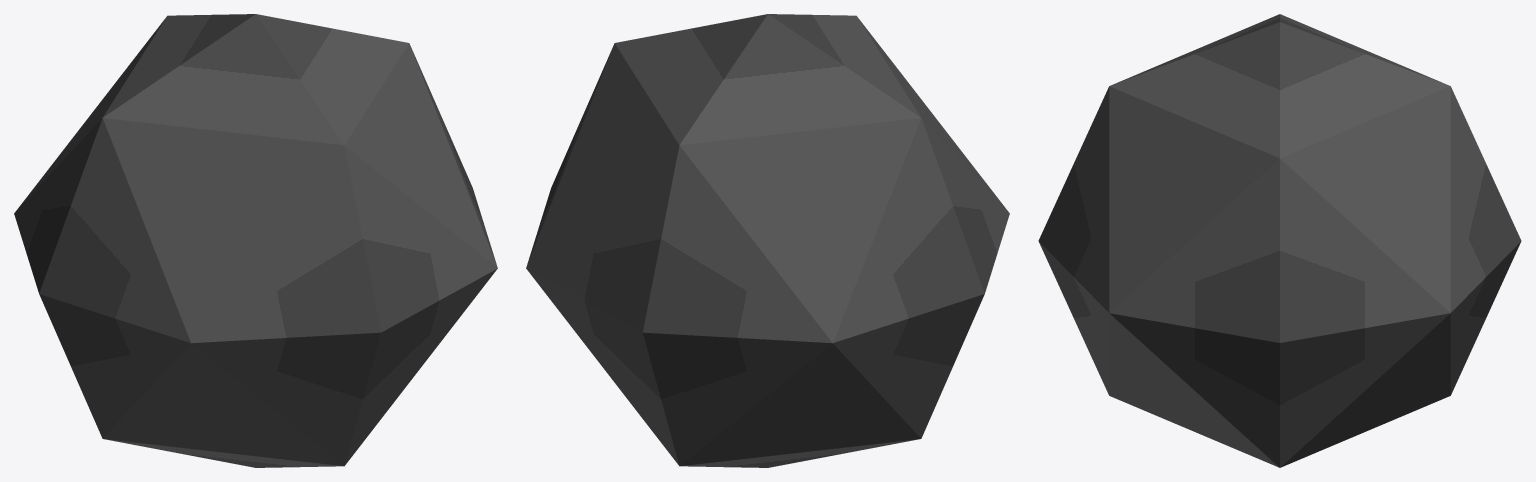
The model's file is steel_pipe_core.obj.
3 renders of one model, left to right at view 1: azimuth 30°, elevation 25°; view 2: azimuth 150°, elevation 25°; view 3: azimuth 270°, elevation 25°, orthographic. The views are drawn at different scales.
Visible parts, largest first — view 1: core; view 2: core; view 3: core.
Boxes of the visible parts, bbox=[...] form: core: bbox=[14, 14, 497, 467]; core: bbox=[526, 14, 1009, 467]; core: bbox=[1038, 14, 1521, 467].
Bounding box in the file's own units: 0.375 × 0.375 × 0.375.
